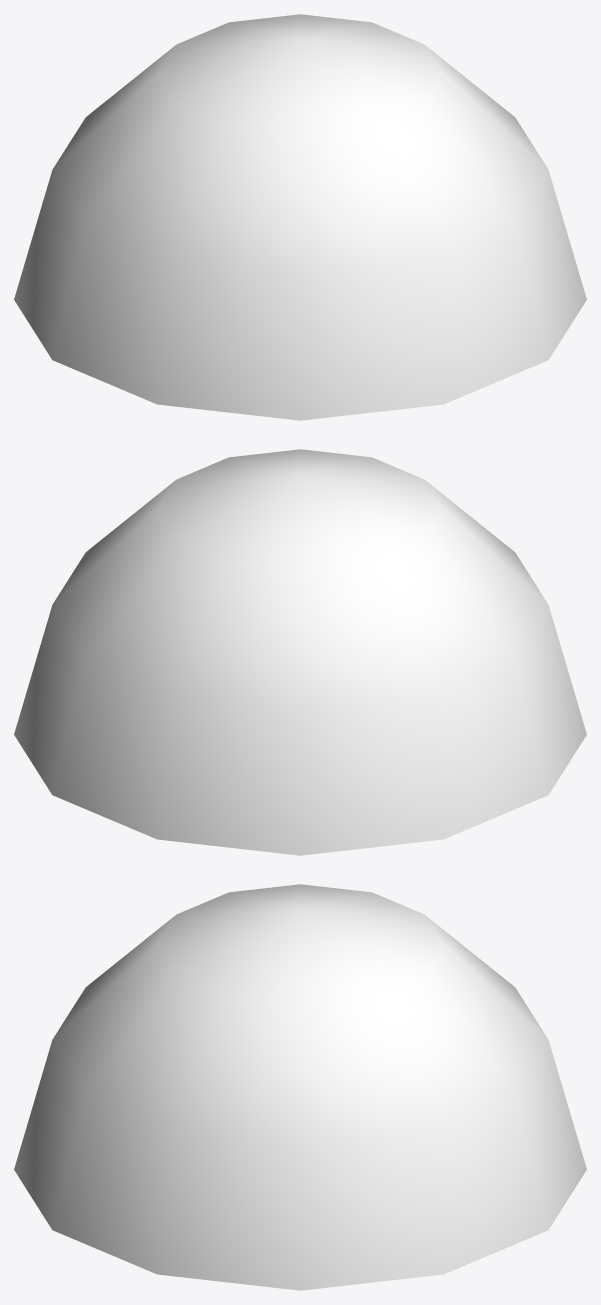
File: herm.FBX
The picture shows the model from 3 angles, top to bottom: view 1: azimuth 30°, elevation 25°; view 2: azimuth 150°, elevation 25°; view 3: azimuth 270°, elevation 25°; orthographic projection.
Parts seen in each view (by area): view 1: Sphere001; view 2: Sphere001; view 3: Sphere001.
Boxes of the visible parts, x1,y1,x2,y2 form: Sphere001: (14,14,586,420); Sphere001: (14,449,586,855); Sphere001: (14,884,586,1290).
Size of the model in its own units: 202 by 101 by 202.
